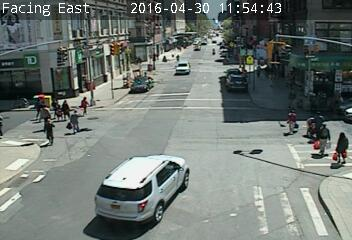neg: (195, 28, 229, 73), (167, 116, 196, 154), (162, 45, 188, 79), (230, 139, 255, 173), (94, 32, 119, 66), (249, 49, 274, 83), (127, 151, 151, 183), (291, 58, 314, 90), (29, 162, 51, 192), (168, 193, 190, 223), (134, 73, 156, 102), (28, 39, 49, 68), (270, 183, 290, 210)
pos: (325, 129, 349, 161), (40, 117, 60, 144), (69, 108, 89, 134), (315, 122, 334, 149), (282, 107, 300, 132), (61, 97, 76, 117), (29, 95, 43, 115), (79, 93, 93, 111), (41, 103, 52, 117)
